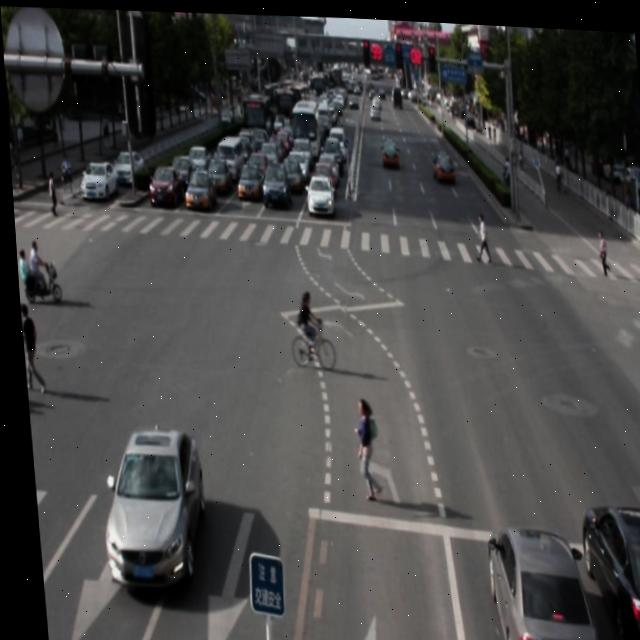car: (88, 422, 201, 590), (478, 522, 588, 640), (569, 500, 640, 640)
